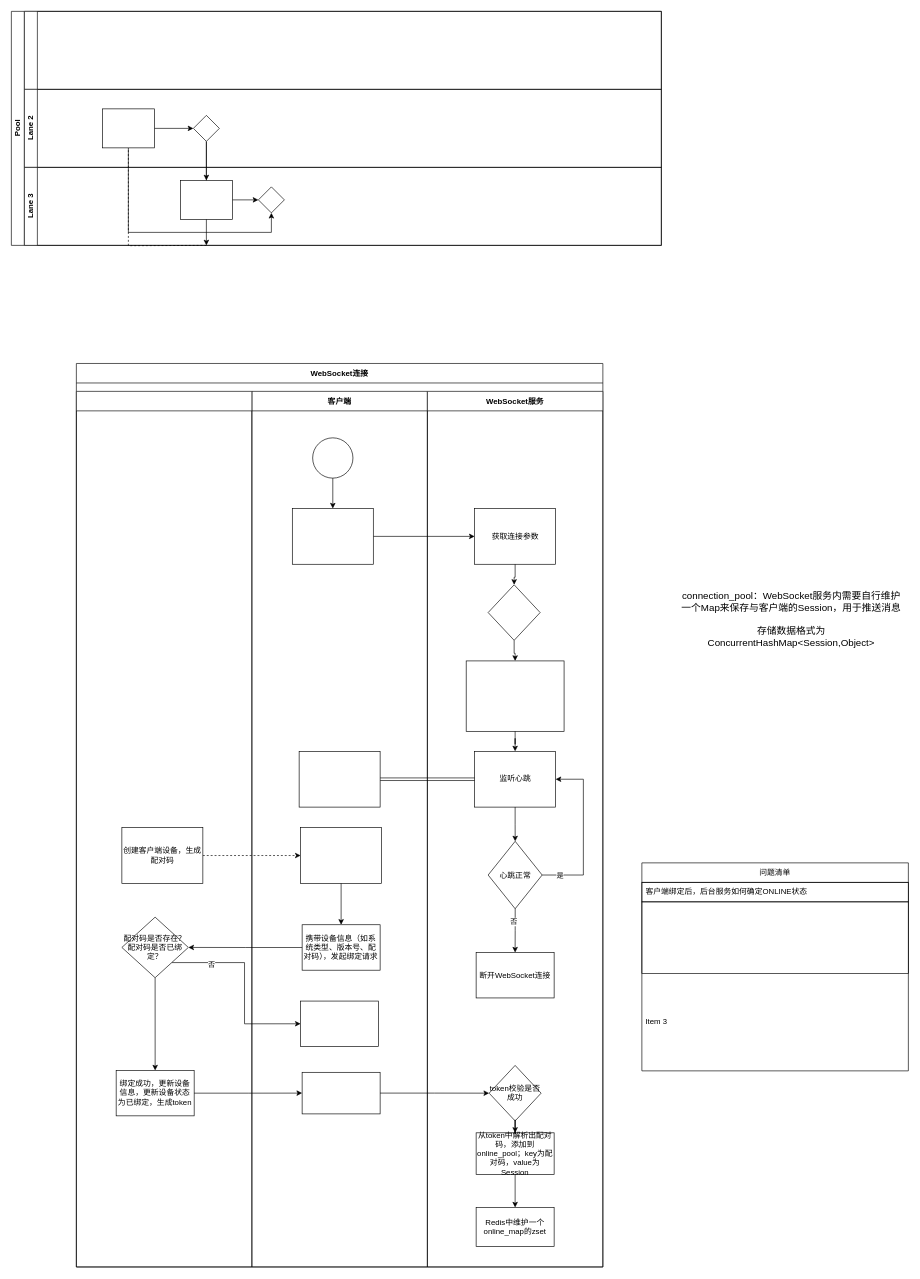
Some shapes in this 920 by 1279 pixel diagram are drawn without their labels. The shapes that lost their labels are listed below. From the top down, each one's centre as x and y in pixels, then its label:
At pixel 342 50: "Lane 1".
At pixel 332 536: "配置WebSocket服务地址，启动设备便发起WS连接".
At pixel 514 612: "是否存在token".
At pixel 515 695: "添加到 connection_pool；key为Session，value为想要保存的连接参数".
At pixel 339 779: "发送心跳".
At pixel 164 829: "设备服务".
At pixel 341 855: "填写配对码并绑定".
At pixel 774 937: "客户端绑定成功后，下线后再重连，Websocket服务如何处理".
At pixel 339 1023: "绑定失败".
At pixel 340 1093: "存储token，发送type为绑定成功的WS消息".
